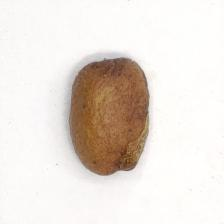NG: (116, 108, 151, 173)
